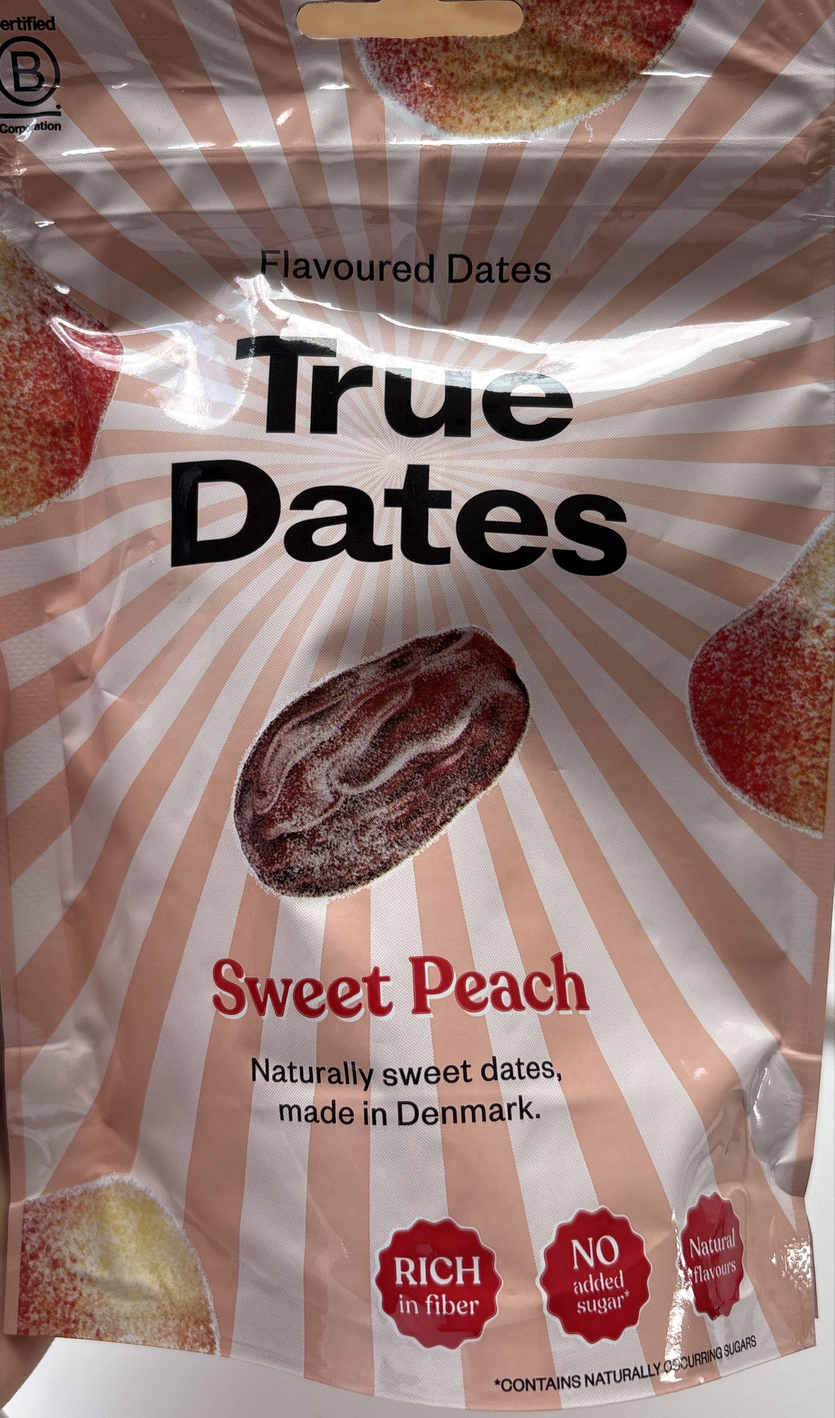True Dates - Sweet Peach: (42, 71, 793, 1347)
